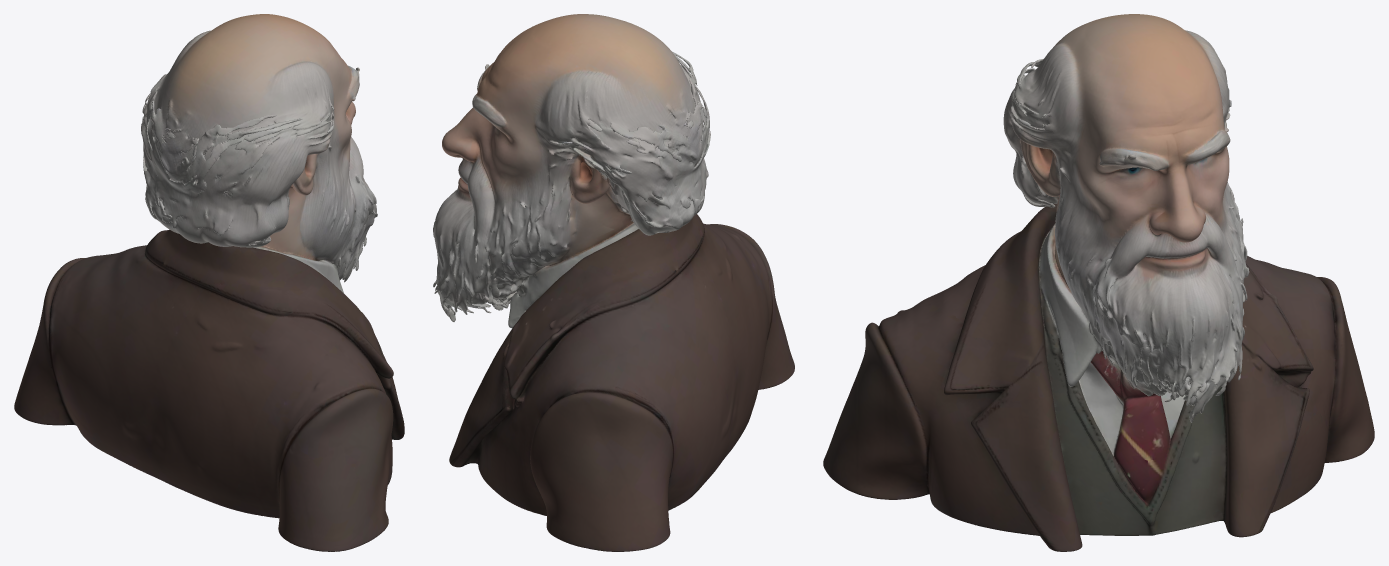
Rendered from detailed_realistic_model_albusdumbledore_15.glb.
The picture shows the model from 3 angles, left to right: view 1: azimuth 30°, elevation 25°; view 2: azimuth 150°, elevation 25°; view 3: azimuth 270°, elevation 25°; orthographic projection. The views are drawn at different scales.
Visible parts, largest first — view 1: tripo_node_cdd10b22-e1ef-4d94-a10b-1a72f27ffb0b; view 2: tripo_node_cdd10b22-e1ef-4d94-a10b-1a72f27ffb0b; view 3: tripo_node_cdd10b22-e1ef-4d94-a10b-1a72f27ffb0b.
Part boxes in pixels (x1,y1,x2,y2): tripo_node_cdd10b22-e1ef-4d94-a10b-1a72f27ffb0b: (14, 14, 404, 551); tripo_node_cdd10b22-e1ef-4d94-a10b-1a72f27ffb0b: (433, 14, 794, 551); tripo_node_cdd10b22-e1ef-4d94-a10b-1a72f27ffb0b: (823, 14, 1374, 551).
Bounding box in the file's own units: 0.6601 × 0.934 × 1.
1 material, 1 textured.
